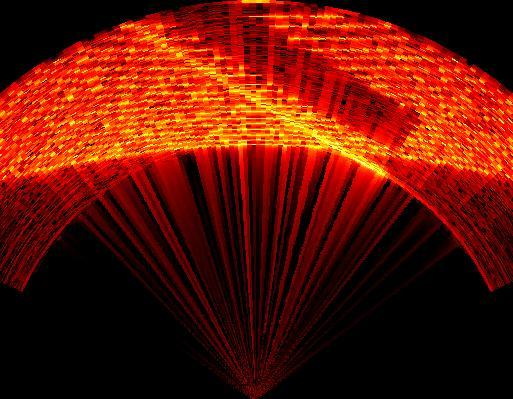pipe: (162, 2, 420, 149)
